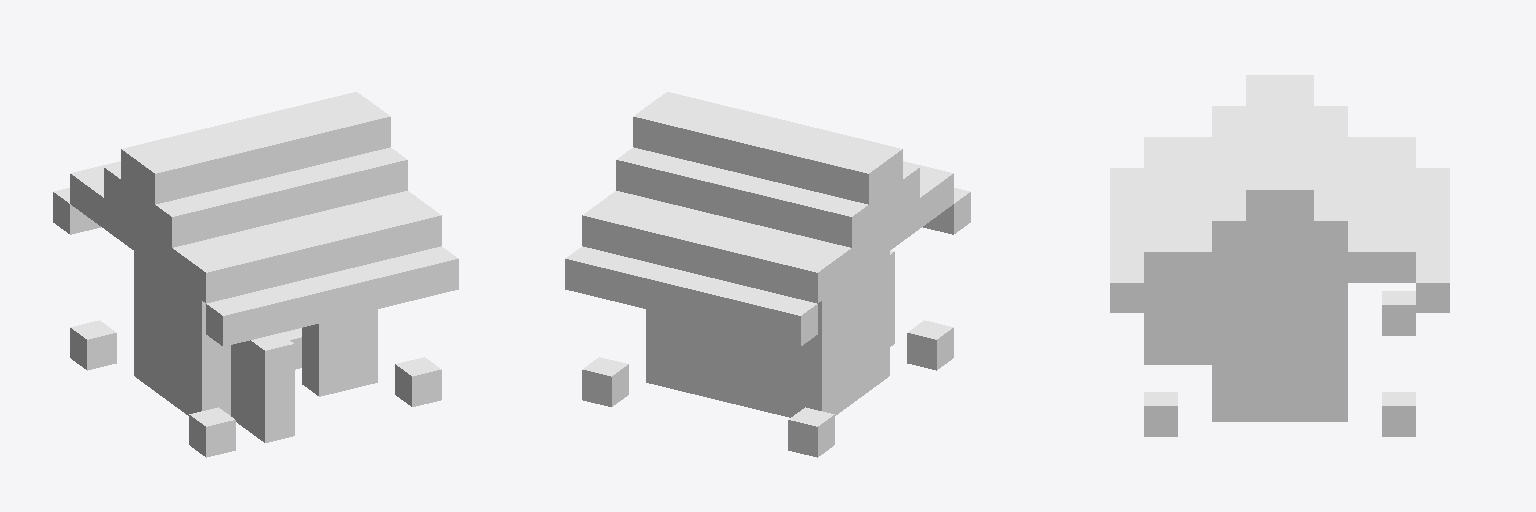
File: House_01.obj
3 renders of one model, left to right at view 1: azimuth 30°, elevation 25°; view 2: azimuth 150°, elevation 25°; view 3: azimuth 270°, elevation 25°, orthographic.
Parts seen in each view (by area): view 1: object 1; view 2: object 1; view 3: object 1.
Boxes of the visible parts, <box> form: object 1: <box>53,92,458,457</box>; object 1: <box>565,92,970,457</box>; object 1: <box>1110,75,1449,436</box>.
Bounding box in the file's own units: 0.8 × 0.8 × 1.